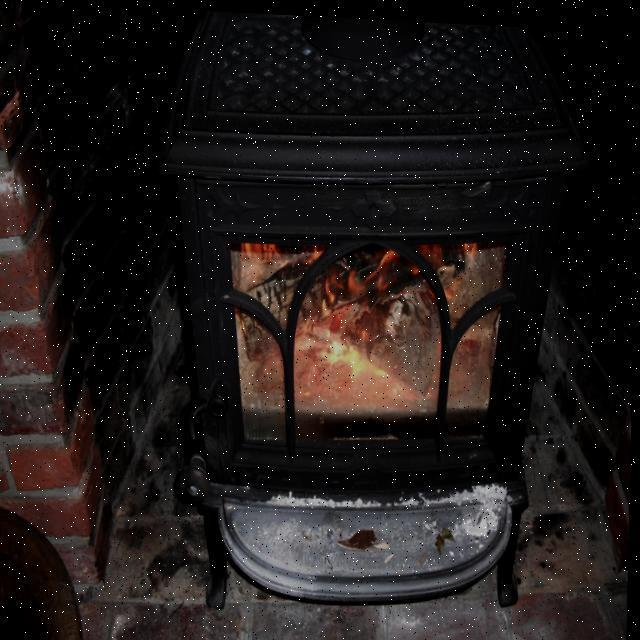Fire: (237, 237, 489, 411)
